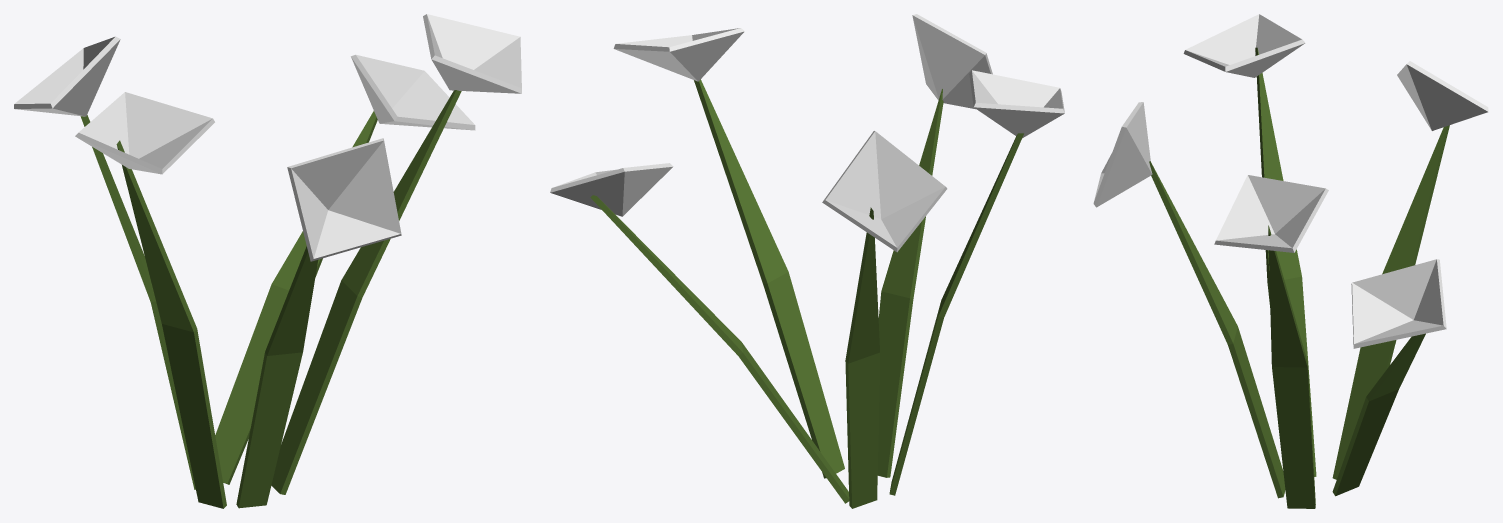
The model's file is SM_RF_Grass_02.fbx.
3 views of the same model, side by side, from view 1: azimuth 30°, elevation 25°; view 2: azimuth 150°, elevation 25°; view 3: azimuth 270°, elevation 25° (orthographic). The views are drawn at different scales.
Parts seen in each view (by area): view 1: SM_RF_Grass_02; view 2: SM_RF_Grass_02; view 3: SM_RF_Grass_02.
Part boxes in pixels (x1,y1,x2,y2): SM_RF_Grass_02: (14, 14, 521, 508); SM_RF_Grass_02: (550, 14, 1064, 508); SM_RF_Grass_02: (1093, 14, 1488, 508).
Bounding box in the file's own units: 82.56 × 74.33 × 66.11.
